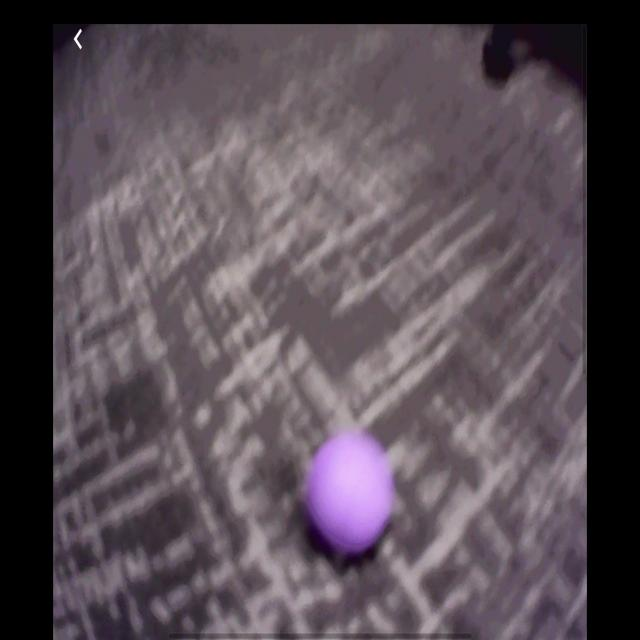ball: (307, 428, 396, 559)
